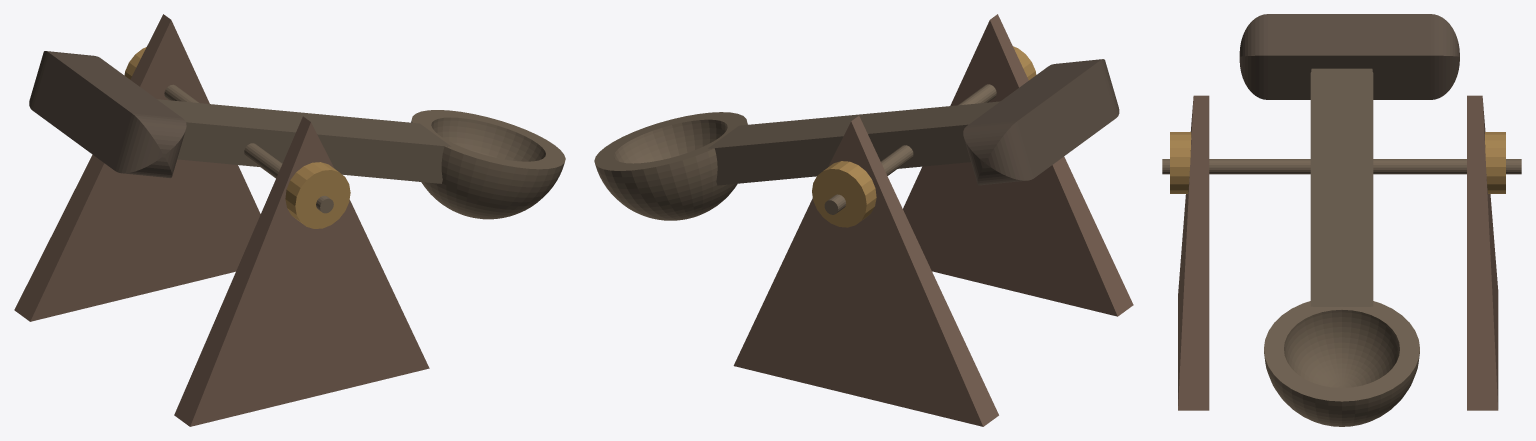
Rendered from catapult.fbx.
3 renders of one model, left to right at view 1: azimuth 30°, elevation 25°; view 2: azimuth 150°, elevation 25°; view 3: azimuth 270°, elevation 25°, orthographic. The views are drawn at different scales.
Visible parts, largest first — view 1: obj_0, obj_0.001; view 2: obj_0, obj_0.001; view 3: obj_0.001, obj_0.
Part boxes in pixels (x1,y1,x2,y2): obj_0: (14,14,429,426); obj_0.001: (29,51,565,219); obj_0: (733,14,1133,426); obj_0.001: (594,59,1119,220); obj_0.001: (1239,14,1459,426); obj_0: (1162,95,1521,410).
Size of the model in its own units: 656 by 372 by 437.
